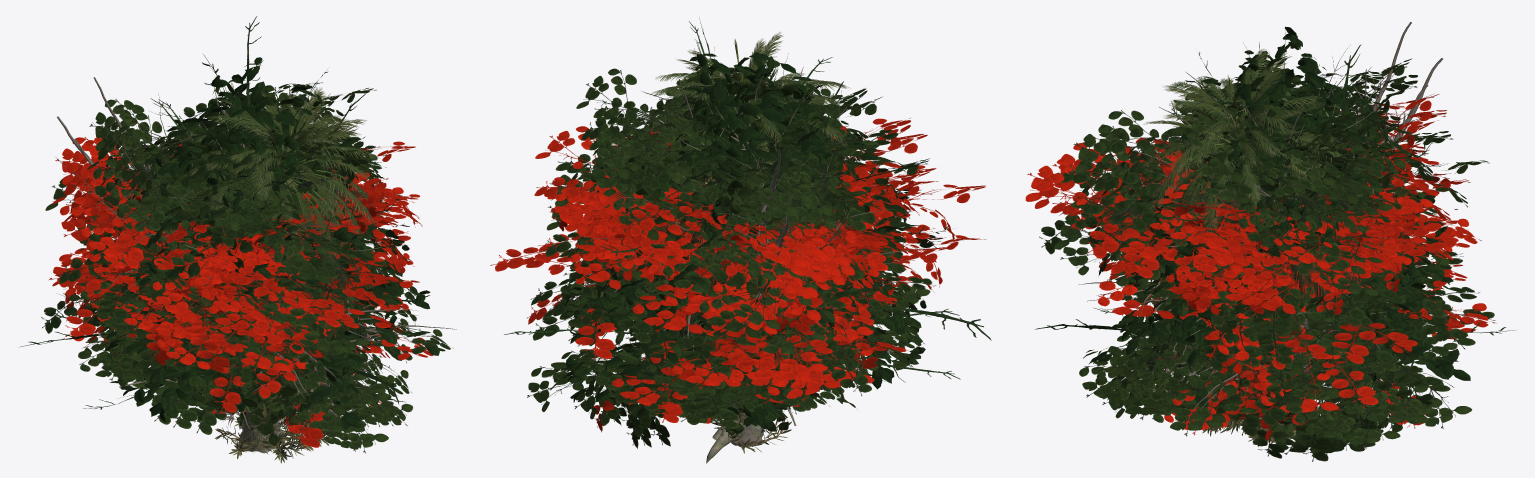
The model's file is trees.glb.
3 renders of one model, left to right at view 1: azimuth 30°, elevation 25°; view 2: azimuth 150°, elevation 25°; view 3: azimuth 270°, elevation 25°, orthographic. The views are drawn at different scales.
Parts seen in each view (by area): view 1: TREE_LIB_flame_a, TREE_LIB_shade_a, TREE_LIB_shade_b, TREE_LIB_flame_b, TREE_LIB_palm_a, TREE_LIB_palm_b, TREE_LIB_olive_a; view 2: TREE_LIB_flame_a, TREE_LIB_shade_a, TREE_LIB_shade_b, TREE_LIB_flame_b, TREE_LIB_palm_a, TREE_LIB_palm_b, TREE_LIB_olive_a; view 3: TREE_LIB_flame_a, TREE_LIB_shade_a, TREE_LIB_shade_b, TREE_LIB_flame_b, TREE_LIB_palm_a, TREE_LIB_palm_b.
Boxes of the visible parts, x1,y1,x2,y2 form: TREE_LIB_flame_a: [41, 116, 456, 453]; TREE_LIB_shade_a: [84, 77, 417, 439]; TREE_LIB_shade_b: [19, 16, 439, 453]; TREE_LIB_flame_b: [68, 139, 438, 451]; TREE_LIB_palm_a: [184, 87, 377, 262]; TREE_LIB_palm_b: [142, 125, 386, 359]; TREE_LIB_olive_a: [214, 370, 367, 463]; TREE_LIB_flame_a: [490, 118, 985, 446]; TREE_LIB_shade_a: [541, 60, 929, 448]; TREE_LIB_shade_b: [504, 18, 991, 463]; TREE_LIB_flame_b: [538, 131, 985, 432]; TREE_LIB_palm_a: [642, 32, 850, 188]; TREE_LIB_palm_b: [575, 78, 881, 356]; TREE_LIB_olive_a: [711, 354, 795, 453]; TREE_LIB_flame_a: [1025, 58, 1496, 450]; TREE_LIB_shade_a: [1073, 22, 1453, 461]; TREE_LIB_shade_b: [1035, 26, 1515, 442]; TREE_LIB_flame_b: [1074, 84, 1470, 458]; TREE_LIB_palm_a: [1140, 49, 1347, 238]; TREE_LIB_palm_b: [1101, 120, 1396, 359].
Size of the model in its own units: 11.77 by 11.23 by 11.48.
21 materials, 21 textured.
